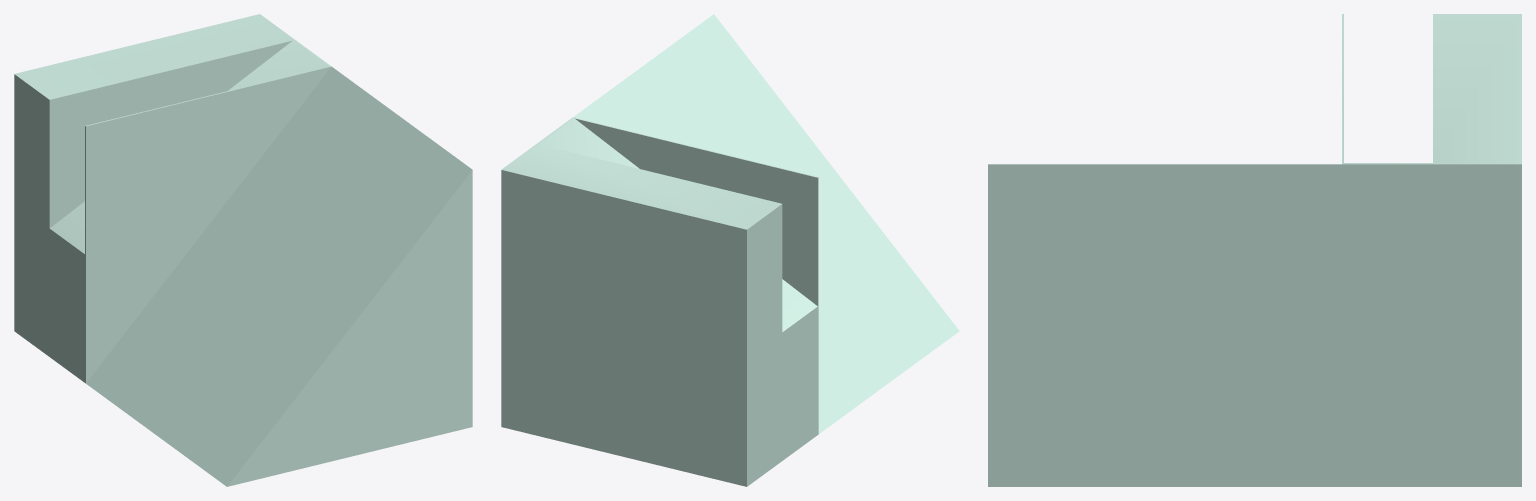
3 renders of one model, left to right at view 1: azimuth 30°, elevation 25°; view 2: azimuth 150°, elevation 25°; view 3: azimuth 270°, elevation 25°, orthographic. The views are drawn at different scales.
Visible parts, largest first — view 1: Renderer Node; view 2: Renderer Node; view 3: Renderer Node.
Boxes of the visible parts, x1,y1,x2,y2 form: Renderer Node: (14, 14, 472, 486); Renderer Node: (501, 14, 959, 486); Renderer Node: (988, 14, 1521, 486).
Size of the model in its own units: 0.75 by 0.75 by 1.13.
